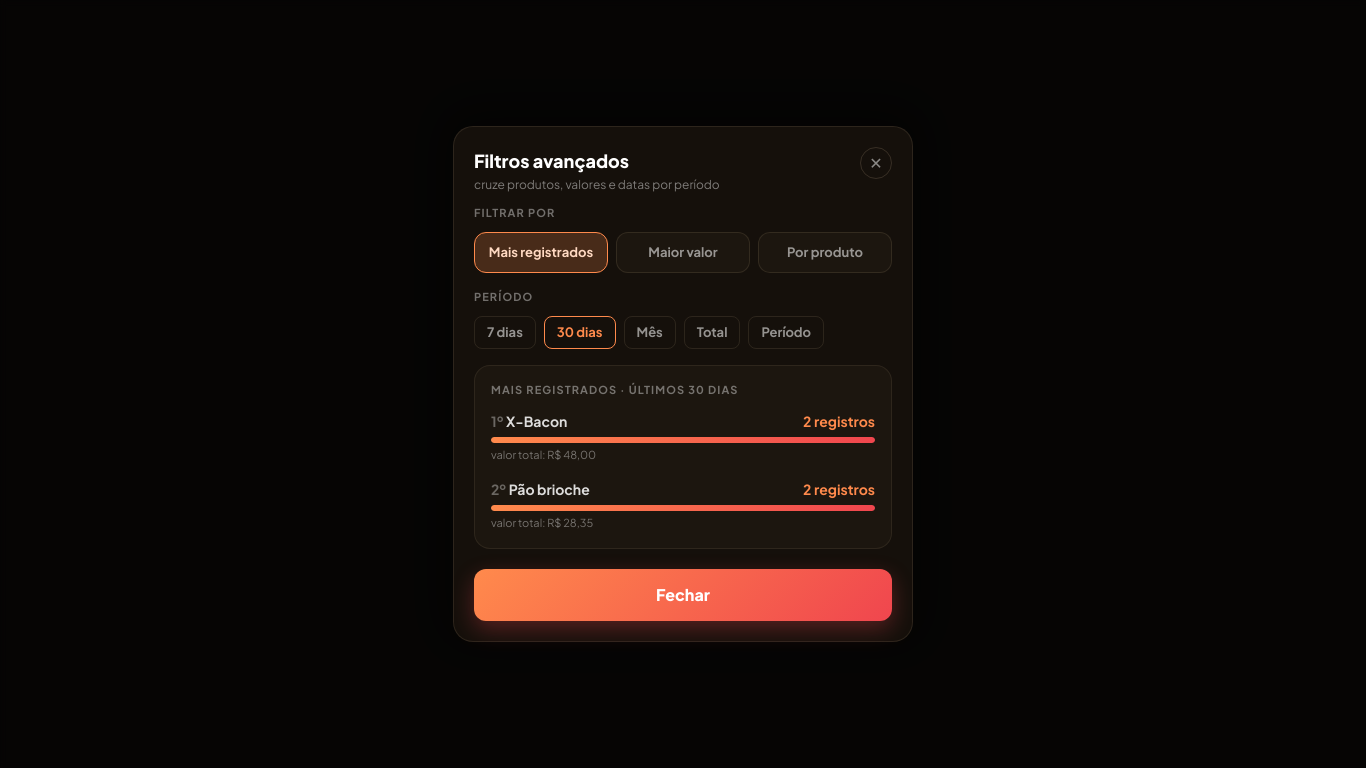
FiltrosModal › no modo "Por produto" lista as datas e soma o total do produto
This screenshot has width=1366, height=768.
Click the button "Por produto": (825, 253) [758,232,892,273]
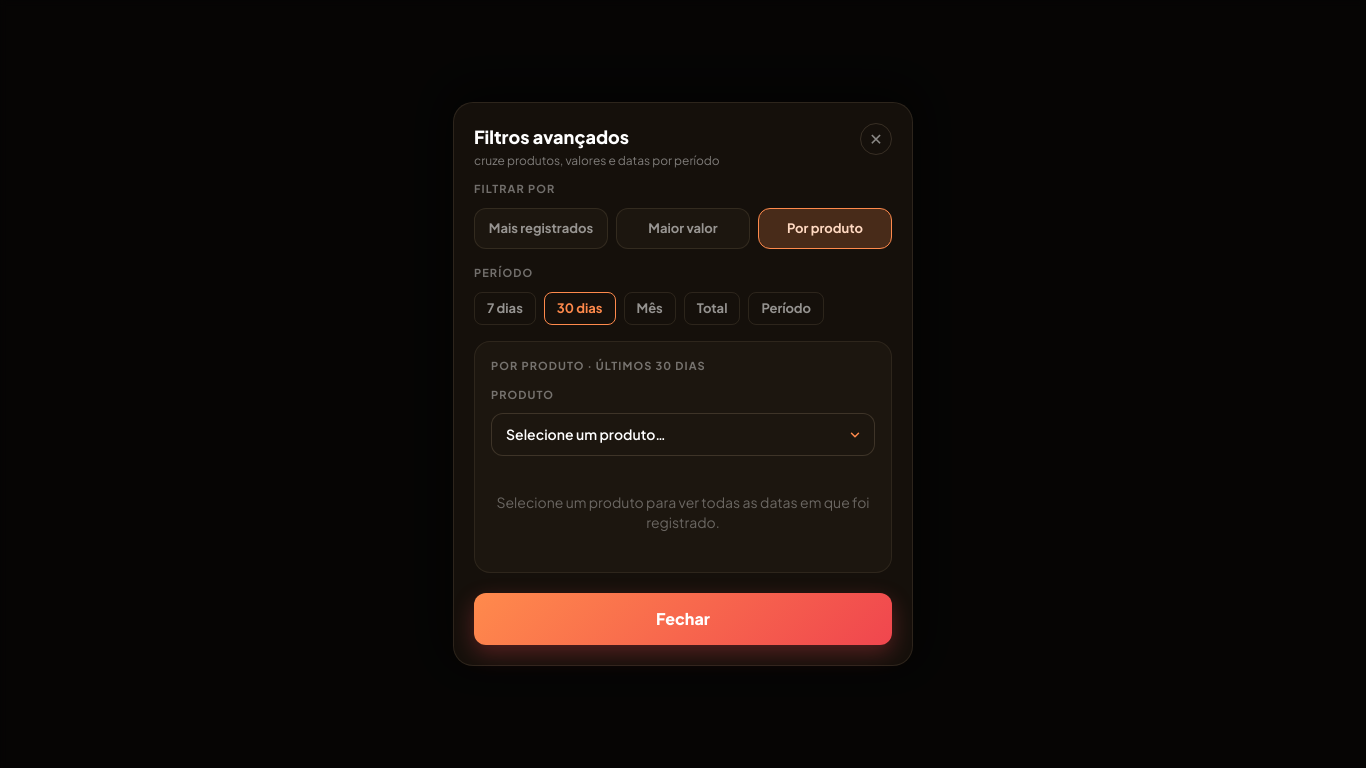
Select "X-Bacon" in the dropdown: (683, 434) [491,413,875,456]
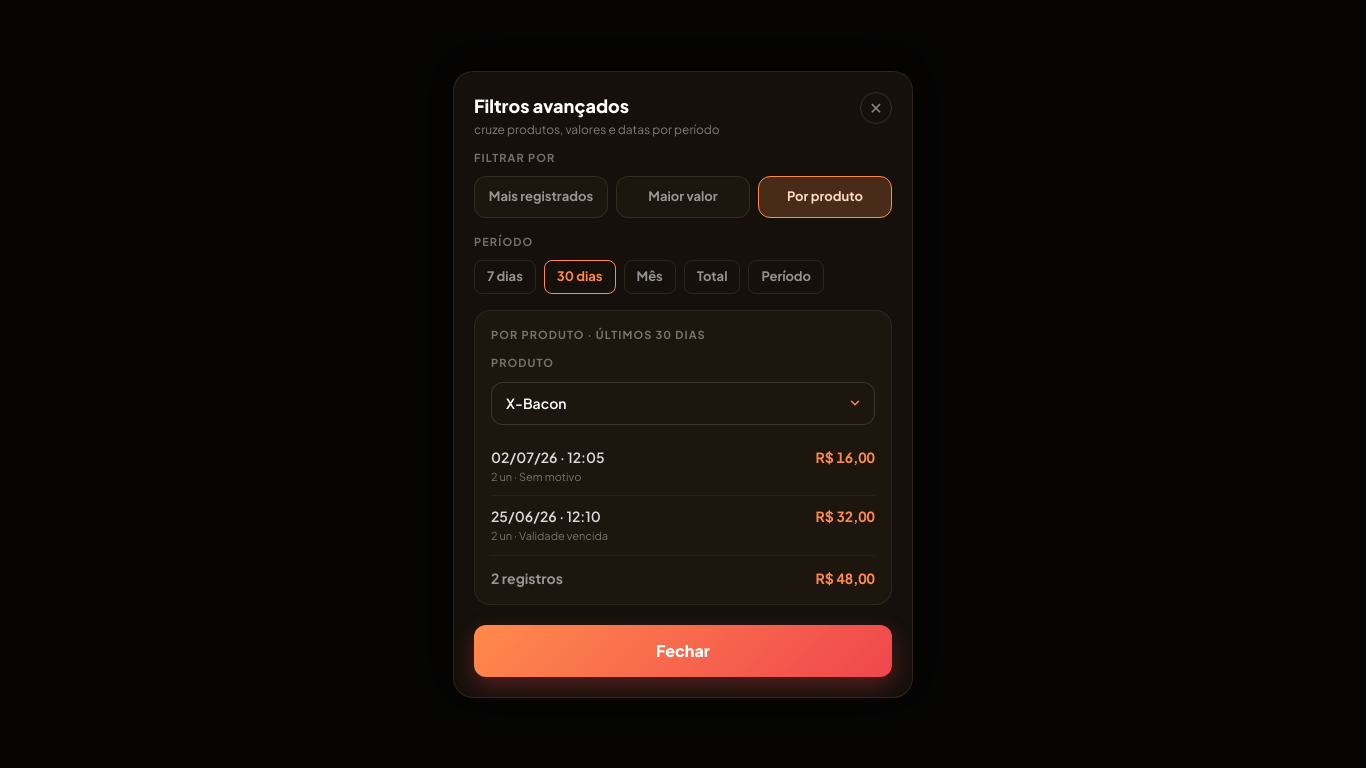
Expected: the text "2 registros" is shown, [491,568,563,588]
Expected: the text "R$ 48,00" is shown, [816,568,875,588]
